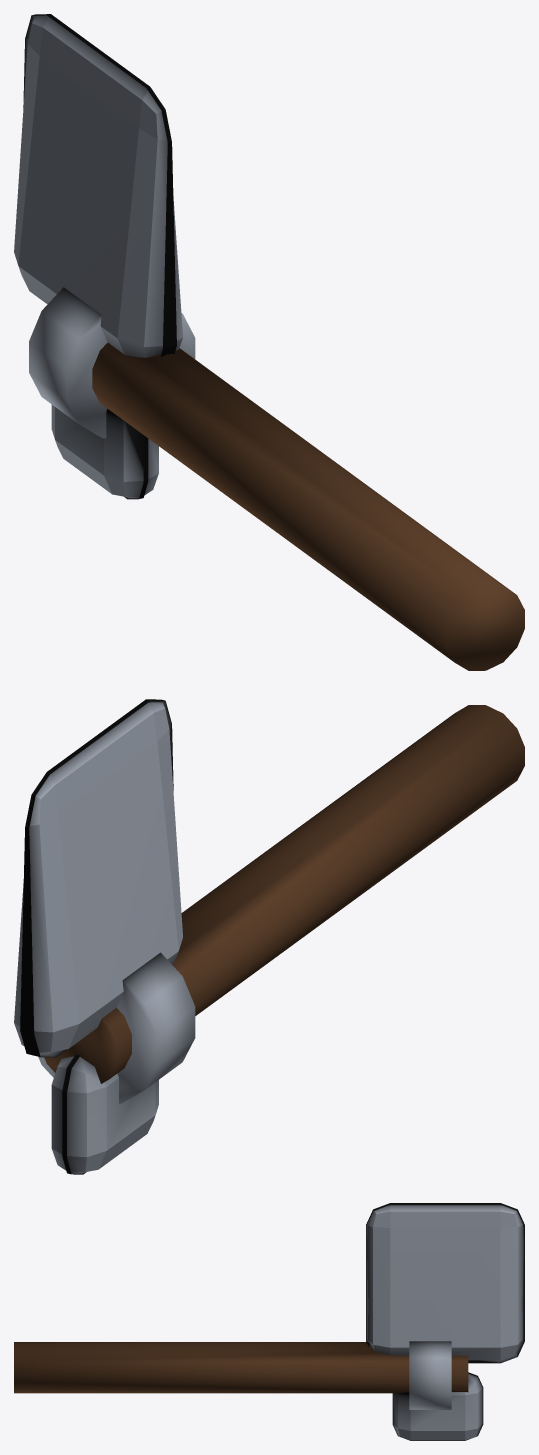
File: hatchet.glb
The picture shows the model from 3 angles, top to bottom: view 1: azimuth 30°, elevation 25°; view 2: azimuth 150°, elevation 25°; view 3: azimuth 270°, elevation 25°; orthographic projection. The views are drawn at different scales.
Visible parts, largest first — view 1: hatchet; view 2: hatchet; view 3: hatchet.
Part boxes in pixels (x1,y1,x2,y2): hatchet: (14,14,524,670); hatchet: (14,699,524,1174); hatchet: (14,1203,524,1440).
Bounding box in the file's own units: 0.0546 × 0.1725 × 0.3375.
